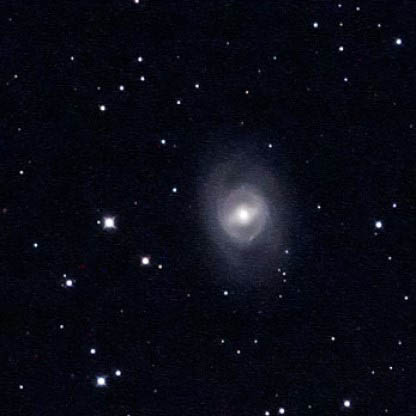Messier 95: (182, 136, 301, 292)
